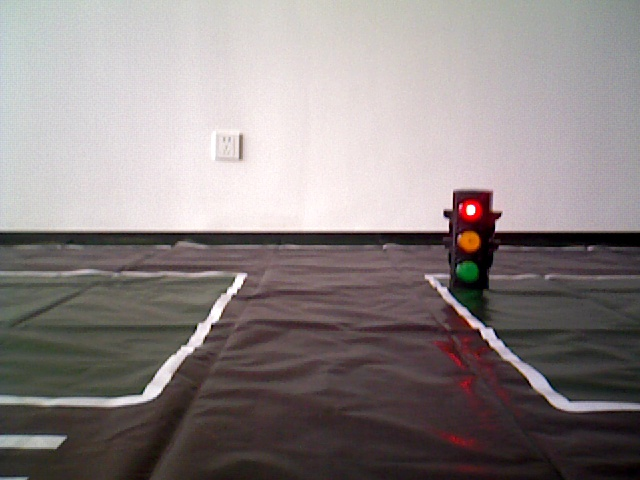red: (450, 193, 489, 290)
